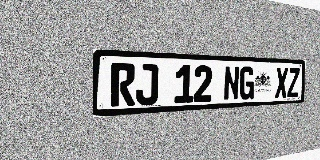1: (174, 65, 194, 103)
2: (194, 65, 212, 102)
G: (239, 66, 255, 100)
J: (136, 63, 158, 105)
N: (223, 66, 240, 101)
R: (111, 63, 135, 107)
X: (275, 67, 288, 98)
Z: (287, 68, 300, 97)
